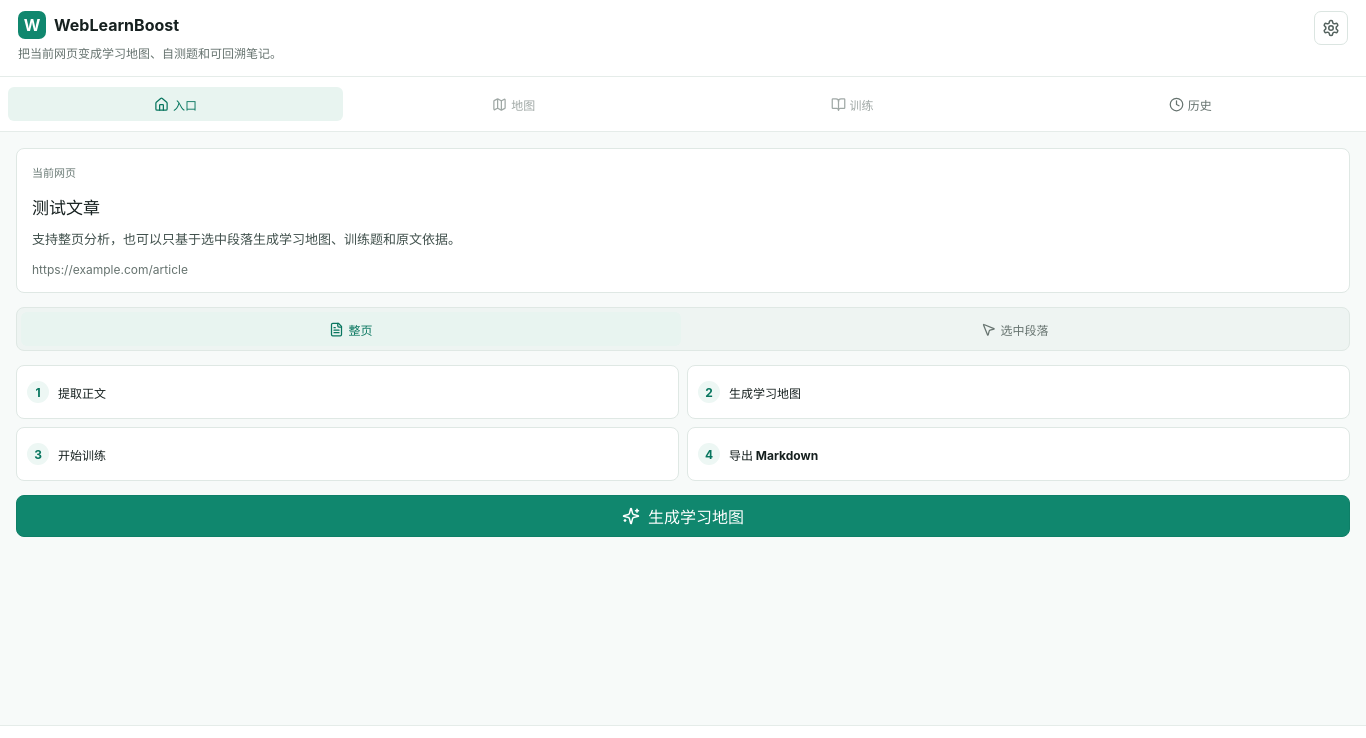
AppView learning flow › does not regenerate map or training after results already exist
Later steps or results of the test are not shown.
Click the button "生成学习地图" at {"x": 683, "y": 516}, box [16, 496, 1350, 538]
(page scrolled)
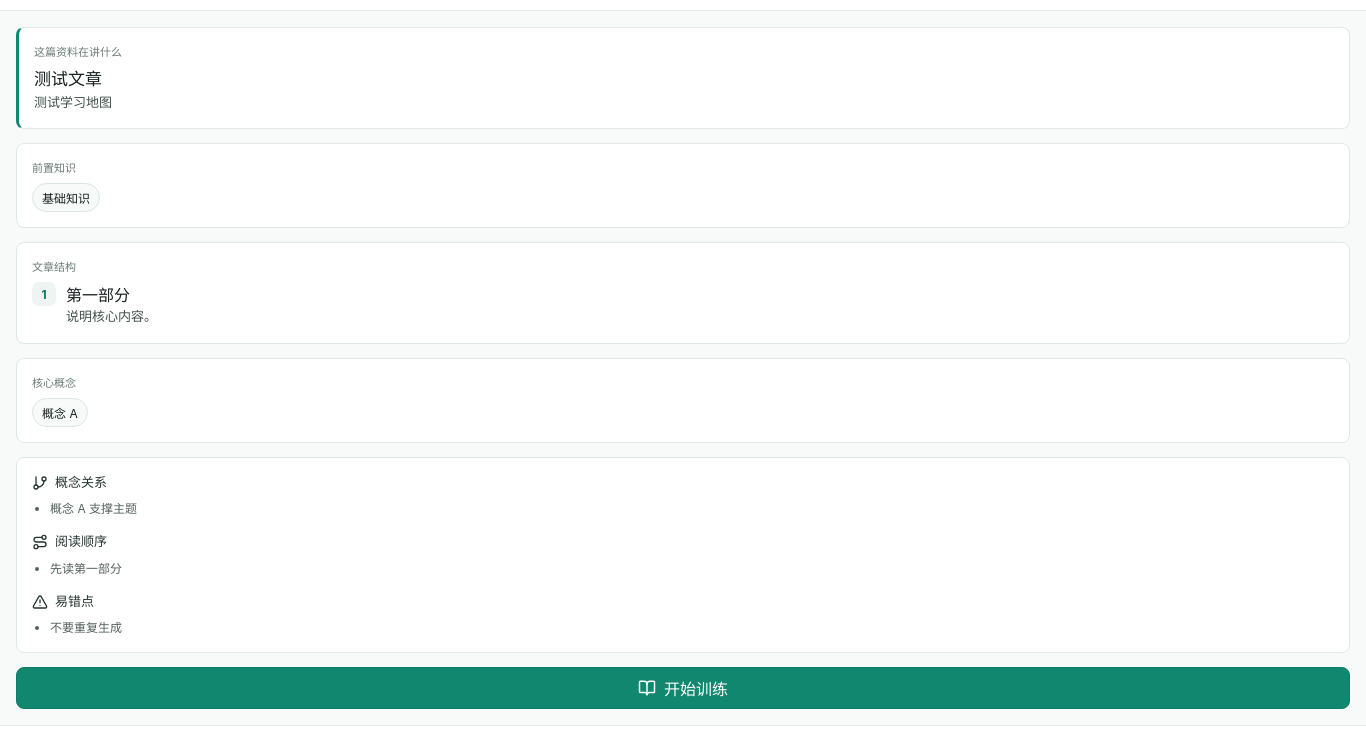
expect the text "测试学习地图" is shown: met, box [34, 94, 112, 110]
Click the button "开始训练" at {"x": 683, "y": 688}, box [16, 667, 1350, 709]
(page scrolled)
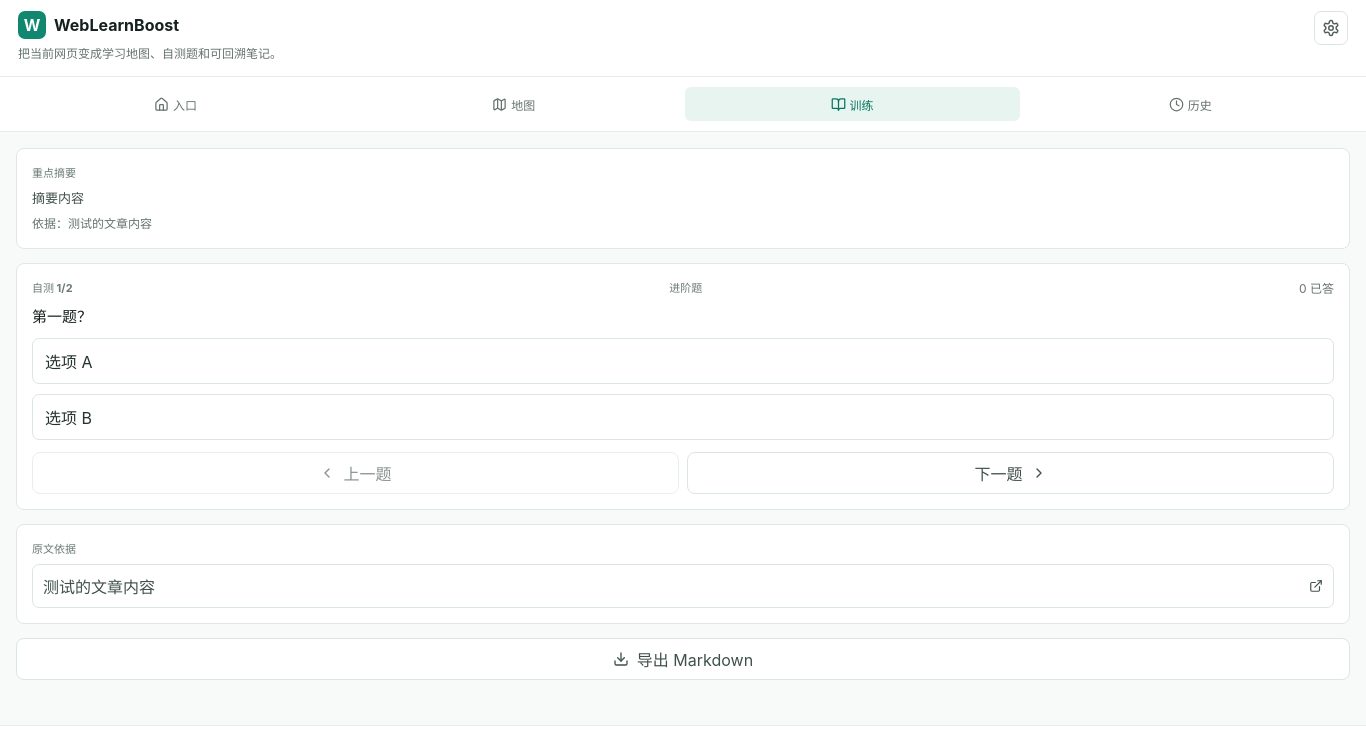
expect the heading "第一题？" is shown: met, box [32, 307, 92, 326]
Click the button "入口" at {"x": 176, "y": 104}, box [8, 87, 343, 121]
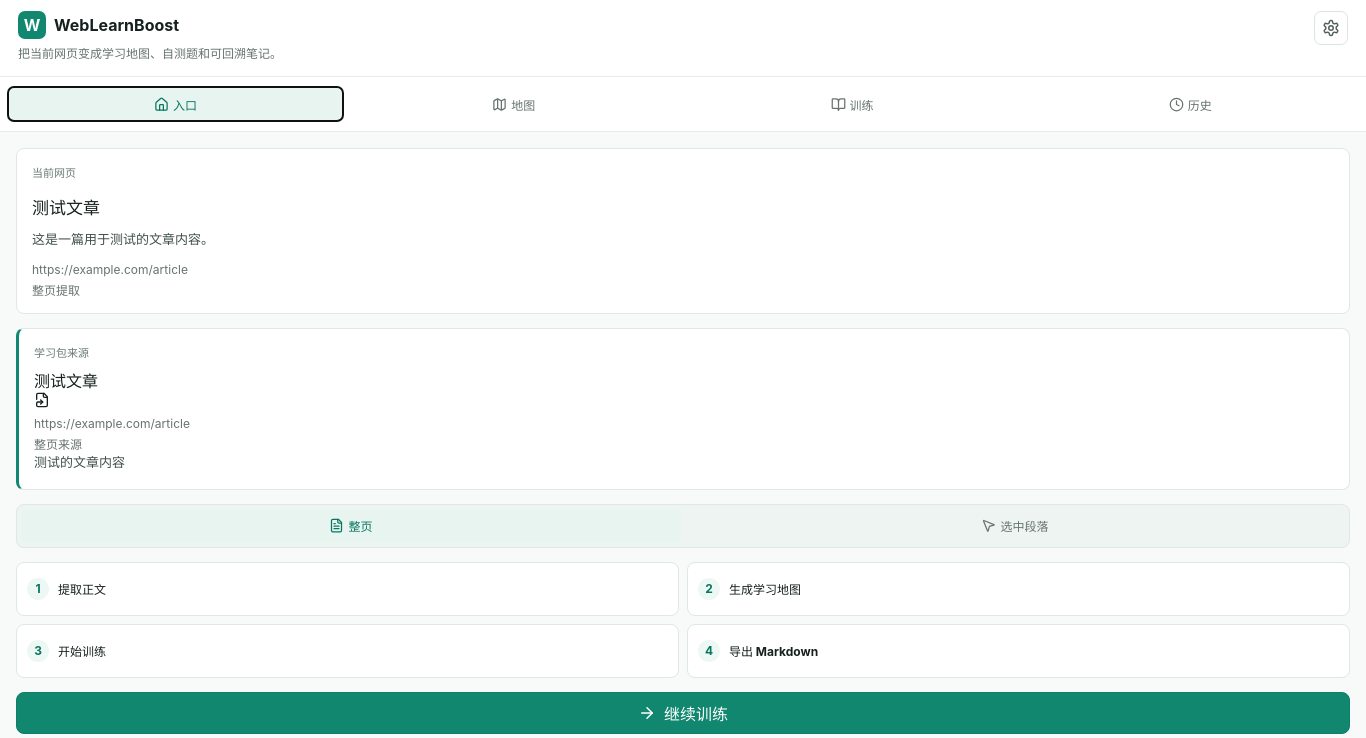
expect the button "继续训练" is shown: met, box [16, 692, 1350, 734]
